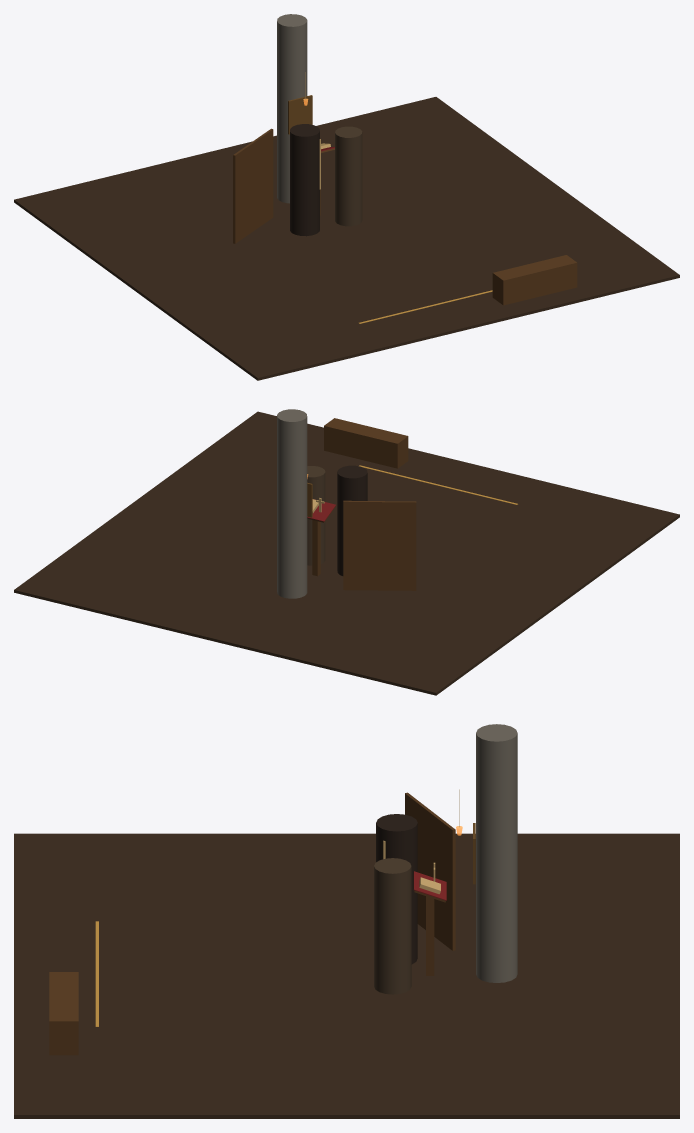
File: sacrament-confession.glb
The picture shows the model from 3 angles, top to bottom: view 1: azimuth 30°, elevation 25°; view 2: azimuth 150°, elevation 25°; view 3: azimuth 270°, elevation 25°; orthographic projection. The views are drawn at different scales.
Parts seen in each view (by area): view 1: floor, column, screen, priest-figure, bench, penitent-figure, icon-board; view 2: floor, screen, column, bench, priest-figure, penitent-figure, analoy-stand; view 3: floor, column, penitent-figure, screen, bench, priest-figure, analoy-stand.
Boxes of the visible parts, x1,y1,x2,y2 form: floor: (14, 97, 679, 380); column: (277, 14, 307, 203); screen: (233, 128, 273, 243); priest-figure: (290, 124, 319, 236); bench: (492, 255, 577, 305); penitent-figure: (335, 126, 362, 226); icon-board: (288, 95, 312, 134); floor: (14, 411, 679, 695); screen: (343, 500, 416, 590); column: (277, 409, 307, 598); bench: (324, 418, 408, 468); priest-figure: (337, 465, 367, 575); penitent-figure: (307, 466, 325, 565); analoy-stand: (312, 520, 320, 576); floor: (14, 833, 679, 1118); column: (476, 724, 517, 982); penitent-figure: (374, 858, 411, 994); screen: (405, 792, 455, 950); bench: (49, 972, 78, 1055); priest-figure: (376, 814, 417, 964); analoy-stand: (426, 896, 434, 975).
Size of the model in its own units: 8 by 3.25 by 8.
